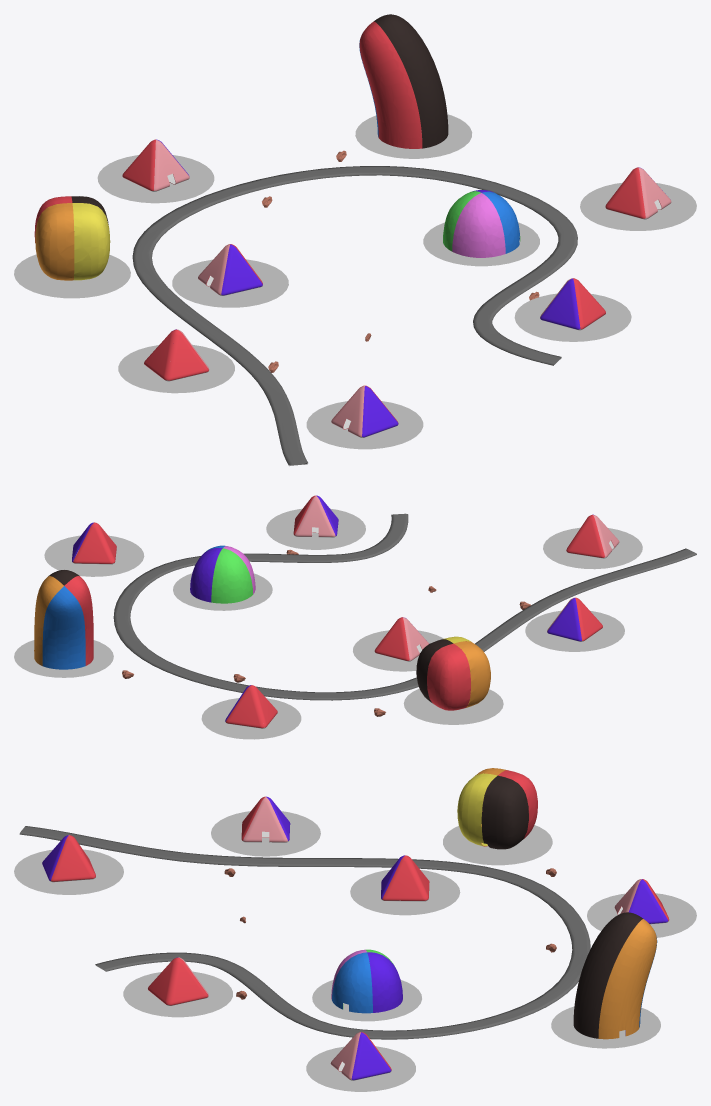
Rendered from candyHouse.glb.
The picture shows the model from 3 angles, top to bottom: view 1: azimuth 30°, elevation 25°; view 2: azimuth 150°, elevation 25°; view 3: azimuth 270°, elevation 25°; orthographic projection. The views are drawn at different scales.
Visible parts, largest first — view 1: roadFBXASC046003, PlaneFBXASC046144, PlaneFBXASC046142, PlaneFBXASC046147, CircleFBXASC046291, CircleFBXASC046288, CircleFBXASC046292, CircleFBXASC046286, CircleFBXASC046289, CircleFBXASC046287, CircleFBXASC046279, CircleFBXASC046281 (+7 smaller); view 2: roadFBXASC046003, PlaneFBXASC046144, PlaneFBXASC046142, PlaneFBXASC046147, CircleFBXASC046286, CircleFBXASC046287, CircleFBXASC046292, CircleFBXASC046289, CircleFBXASC046288, CircleFBXASC046279, CircleFBXASC046281, ConeFBXASC046132 (+7 smaller); view 3: roadFBXASC046003, PlaneFBXASC046144, PlaneFBXASC046142, PlaneFBXASC046147, CircleFBXASC046288, CircleFBXASC046292, CircleFBXASC046291, CircleFBXASC046289, CircleFBXASC046286, CircleFBXASC046279, CircleFBXASC046281, CircleFBXASC046287 (+7 smaller).
Part boxes in pixels (x1,y1,x2,y2): roadFBXASC046003: (132, 166, 577, 465); PlaneFBXASC046144: (359, 14, 448, 148); PlaneFBXASC046142: (34, 196, 110, 280); PlaneFBXASC046147: (443, 190, 520, 257); CircleFBXASC046291: (172, 259, 288, 307); CircleFBXASC046288: (118, 344, 234, 393); CircleFBXASC046292: (306, 401, 423, 449); CircleFBXASC046286: (514, 293, 631, 341); CircleFBXASC046289: (580, 182, 696, 230); CircleFBXASC046287: (97, 155, 214, 203); CircleFBXASC046279: (14, 254, 130, 298); CircleFBXASC046281: (355, 114, 472, 158); roadFBXASC046003: (113, 513, 696, 700); PlaneFBXASC046144: (34, 570, 93, 669); PlaneFBXASC046142: (416, 636, 490, 710); PlaneFBXASC046147: (190, 545, 255, 603); CircleFBXASC046286: (266, 508, 365, 549); CircleFBXASC046287: (201, 698, 301, 739); CircleFBXASC046292: (543, 527, 642, 569); CircleFBXASC046289: (44, 535, 144, 576); CircleFBXASC046288: (525, 610, 624, 651); CircleFBXASC046279: (403, 688, 503, 724); CircleFBXASC046281: (14, 640, 113, 677); ConeFBXASC046132: (547, 597, 602, 641); roadFBXASC046003: (19, 826, 590, 1039); PlaneFBXASC046144: (573, 912, 657, 1039); PlaneFBXASC046142: (457, 768, 537, 849); PlaneFBXASC046147: (331, 949, 402, 1013); CircleFBXASC046288: (211, 811, 320, 856); CircleFBXASC046292: (14, 849, 123, 894); CircleFBXASC046291: (350, 870, 460, 915); CircleFBXASC046289: (306, 1046, 415, 1091); CircleFBXASC046286: (123, 971, 232, 1017); CircleFBXASC046279: (443, 825, 552, 865); CircleFBXASC046281: (551, 1006, 660, 1048); CircleFBXASC046287: (587, 893, 696, 937).
Bounding box in the file's own units: 50.57 × 9.45 × 51.79.
